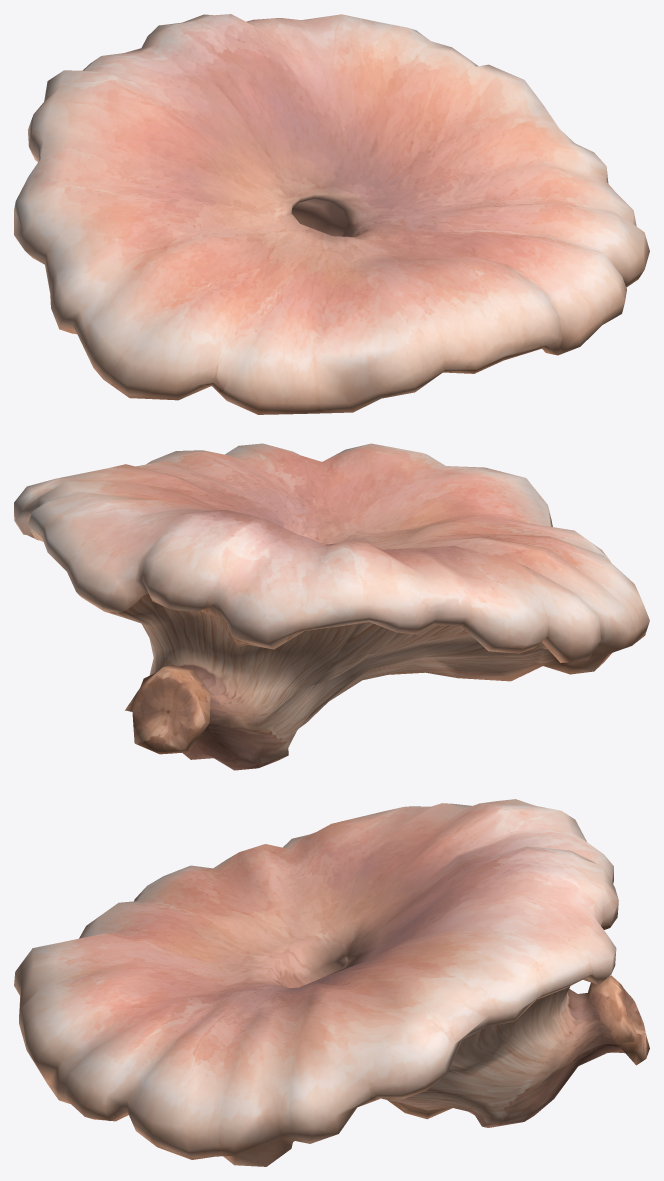
The model's file is 01_Mushroom.fbx.
3 renders of one model, top to bottom at view 1: azimuth 30°, elevation 25°; view 2: azimuth 150°, elevation 25°; view 3: azimuth 270°, elevation 25°, orthographic.
Parts seen in each view (by area): view 1: tripo_node_ef885a52; view 2: tripo_node_ef885a52; view 3: tripo_node_ef885a52.
Part boxes in pixels (box(x1,y1,x2,y2)): tripo_node_ef885a52: box(14, 14, 649, 414); tripo_node_ef885a52: box(14, 443, 649, 770); tripo_node_ef885a52: box(14, 799, 649, 1166).
Bounding box in the file's own units: 99.61 × 99.61 × 44.64.
